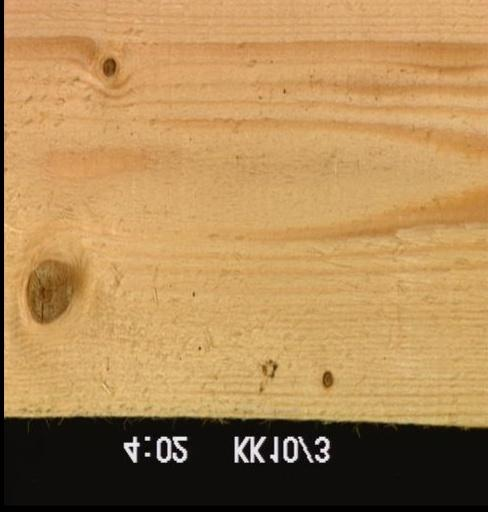dry_knot: (319, 368, 334, 390)
sound_knot: (22, 256, 77, 326), (98, 55, 117, 80)
